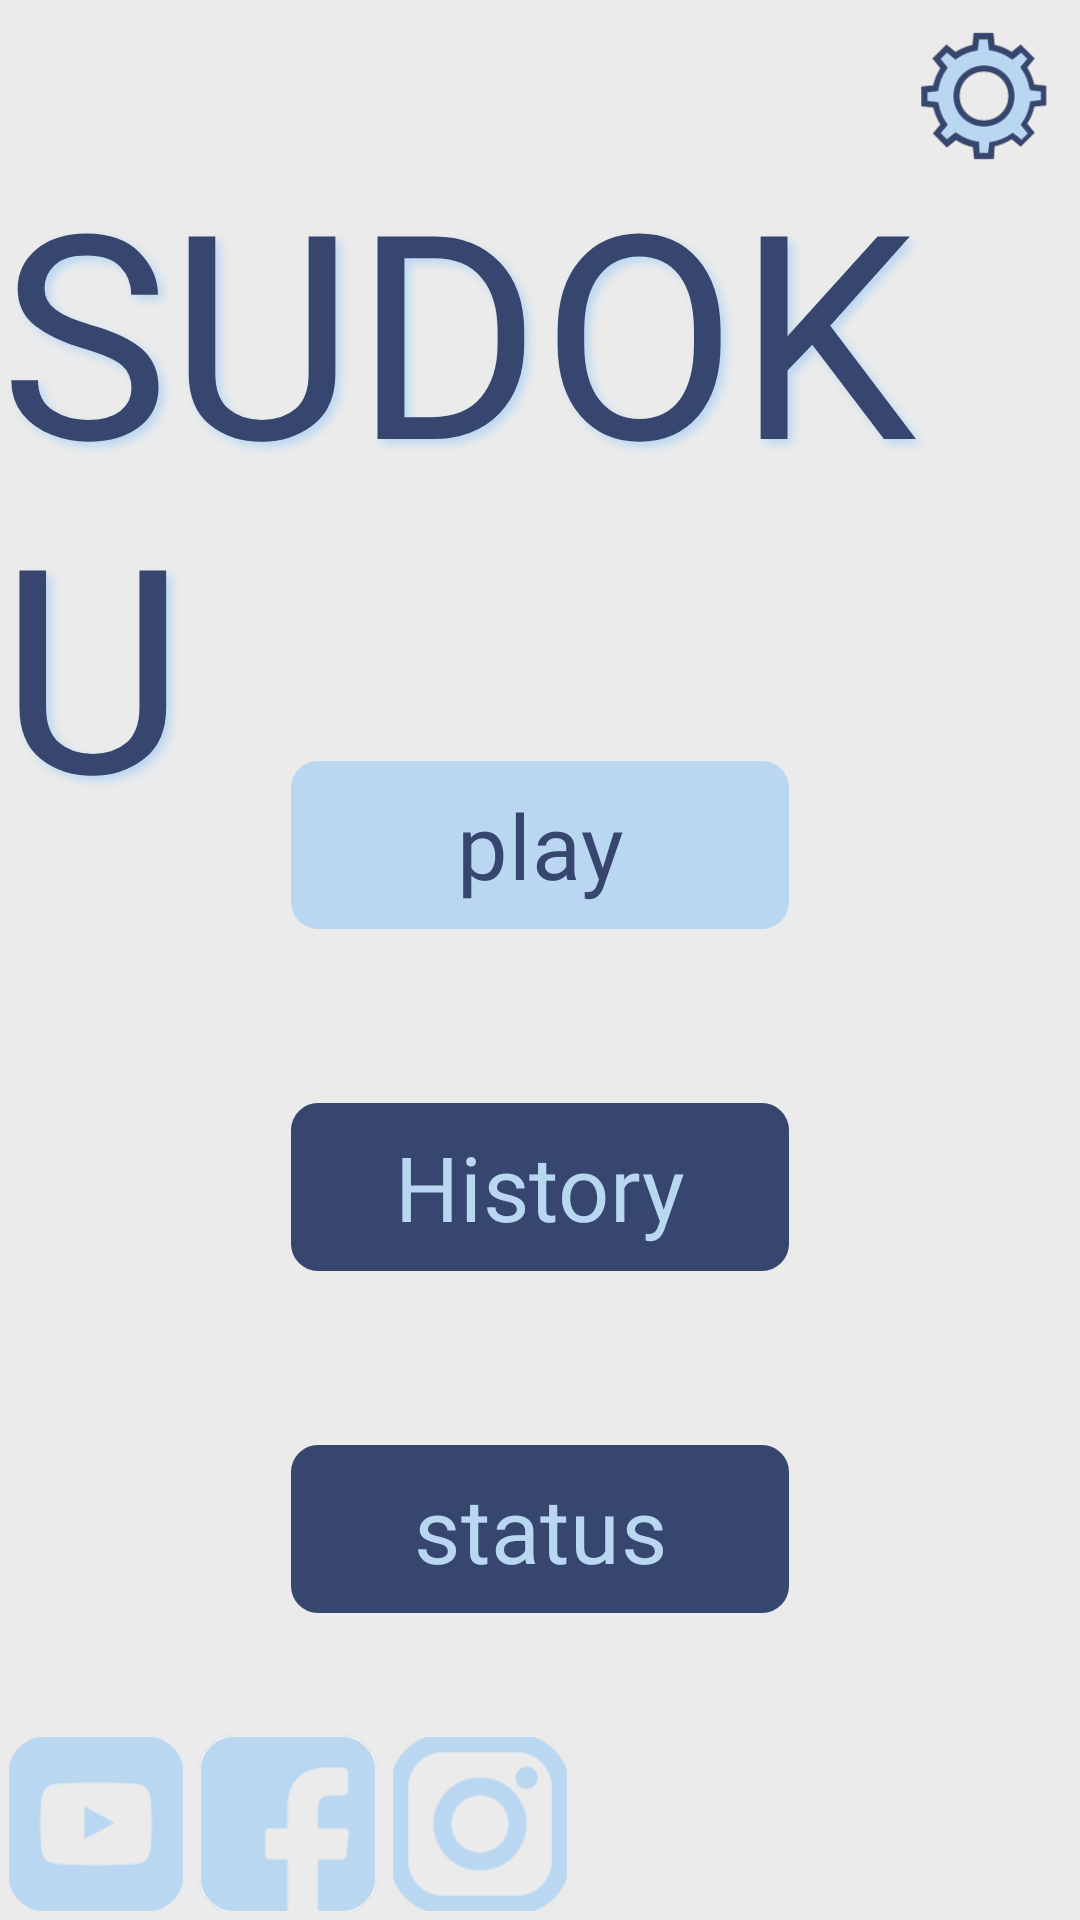

Point at icon controls on the screen. Image size 1080*1920, points as point (x, y).
setting: point (984, 96)
